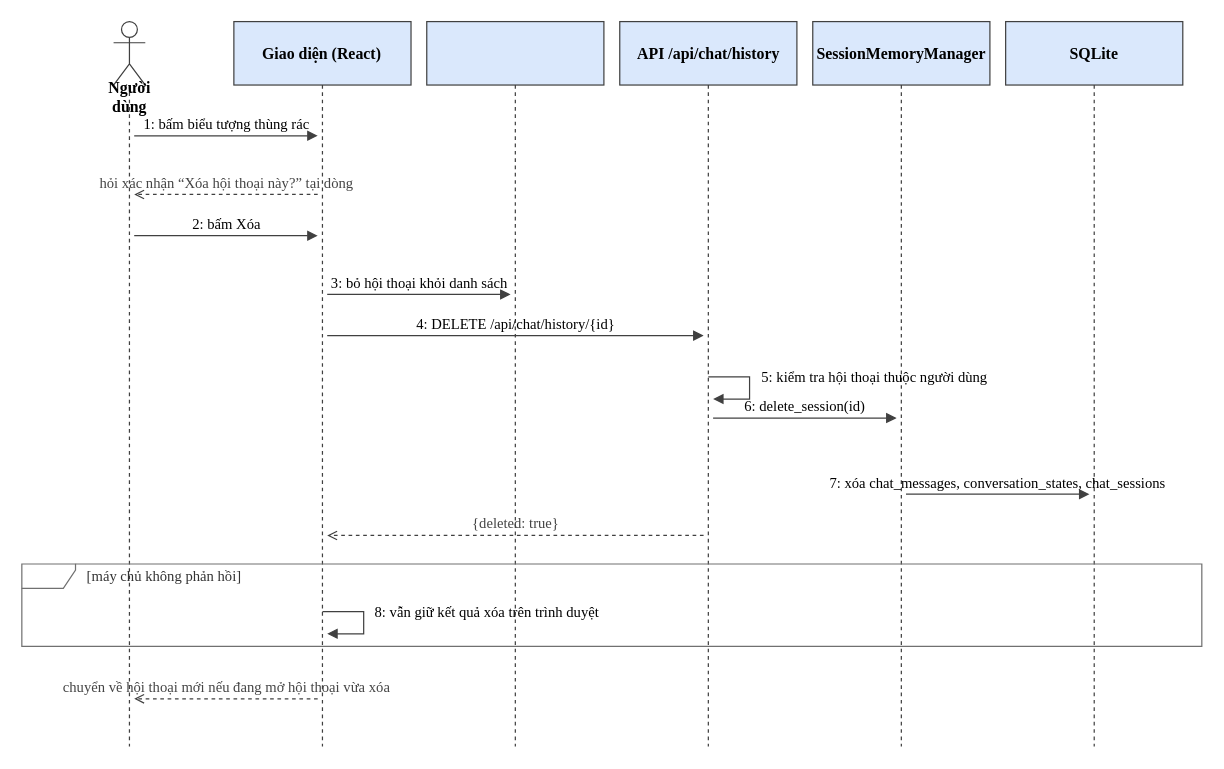
Image size: 1224x769. Some labels were removed from this diagram. Each missing label, with the box of its shape:
alt: (21, 563, 1202, 646)
localStorage: (426, 20, 604, 746)
